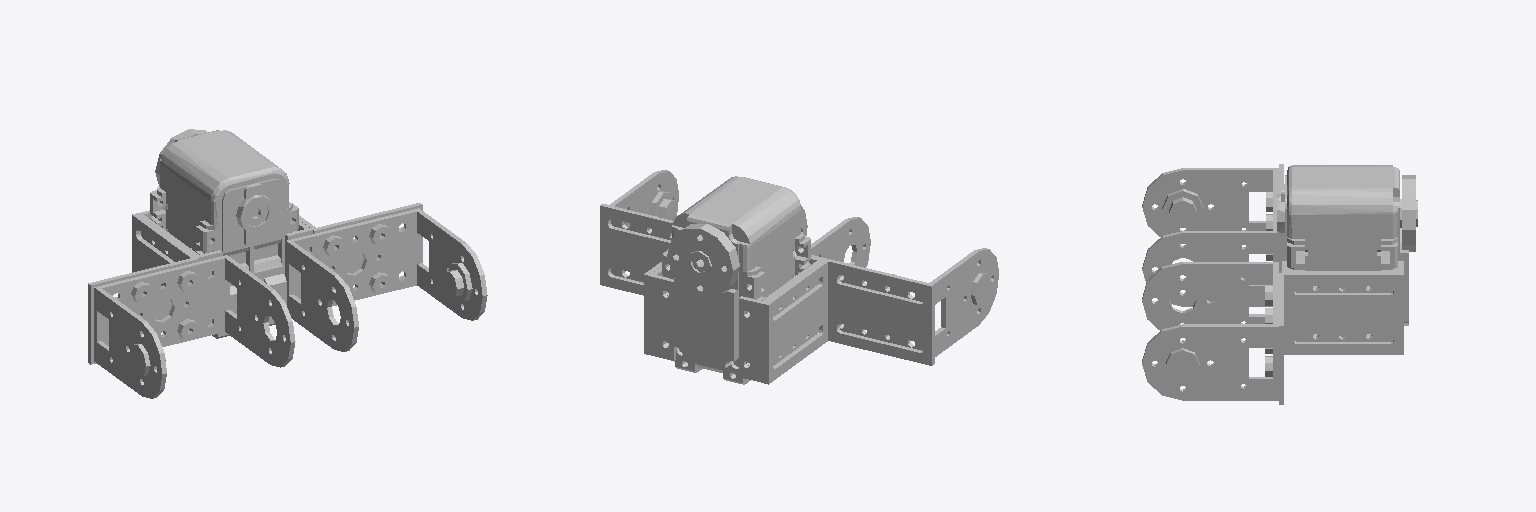
Rendered from centred_wrist_link.obj.
The picture shows the model from 3 angles: view 1: azimuth 30°, elevation 25°; view 2: azimuth 150°, elevation 25°; view 3: azimuth 270°, elevation 25°; orthographic projection.
Size of the model in its own units: 1.11 by 0.5 by 0.7955.